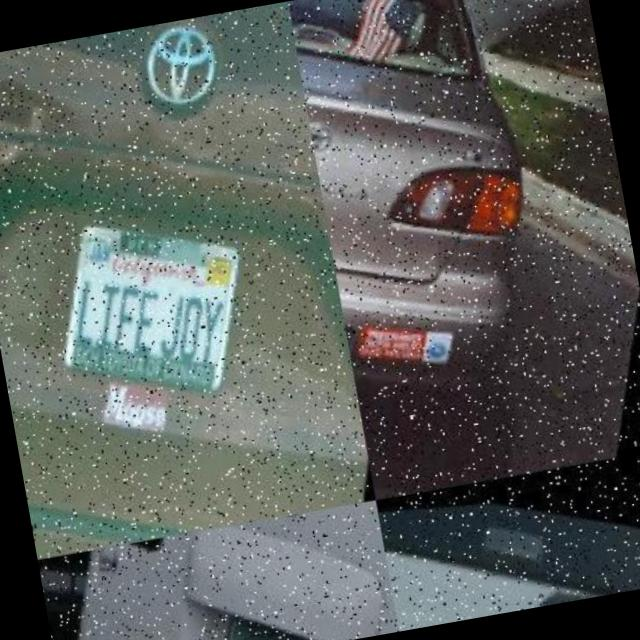LicensePlate: (38, 182, 268, 412), (173, 589, 334, 640), (338, 274, 414, 376)
